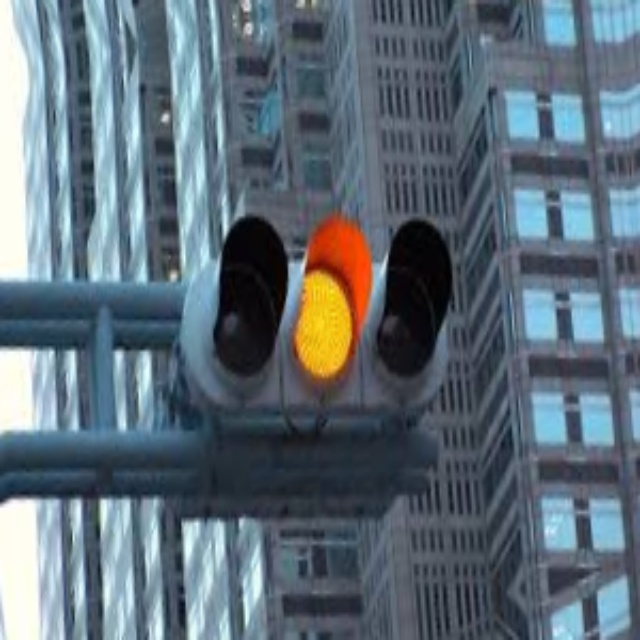yellow_light: (286, 249, 358, 388)
